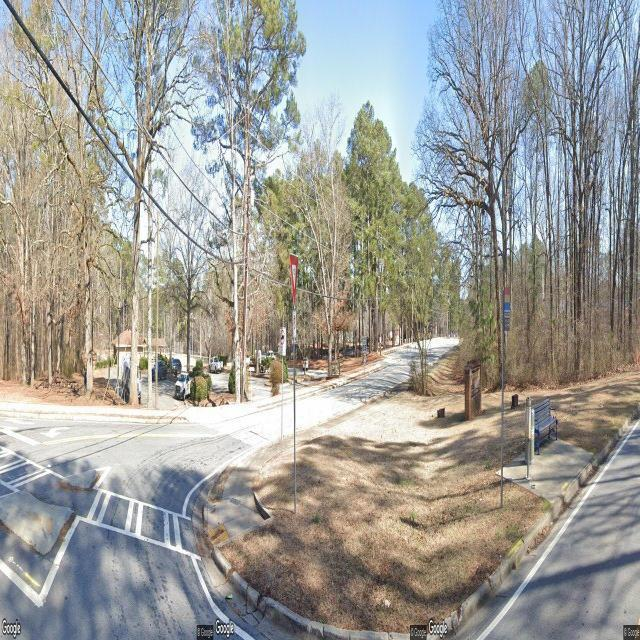seating: (532, 397, 558, 455)
trash_can: (524, 408, 534, 464)
